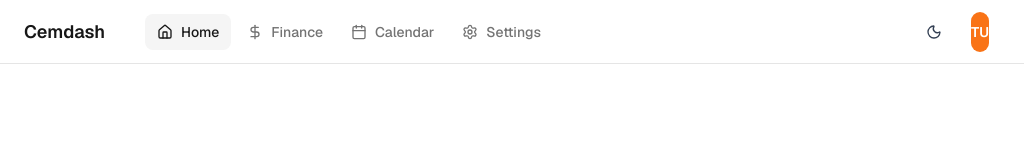
ThemeToggle with Tooltip in NavBar › Tooltip Rendering › should show tooltip on hover over theme toggle
Hover over the button with test id "theme-toggle" at point(934, 32), box [916,14,952,50]
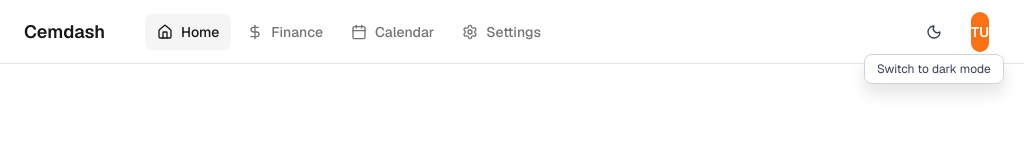
Expected: the tooltip "Switch to dark mode" is shown, [864,54,1004,84]
